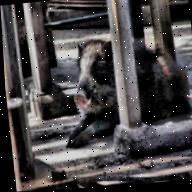boar: (49, 19, 192, 159)
